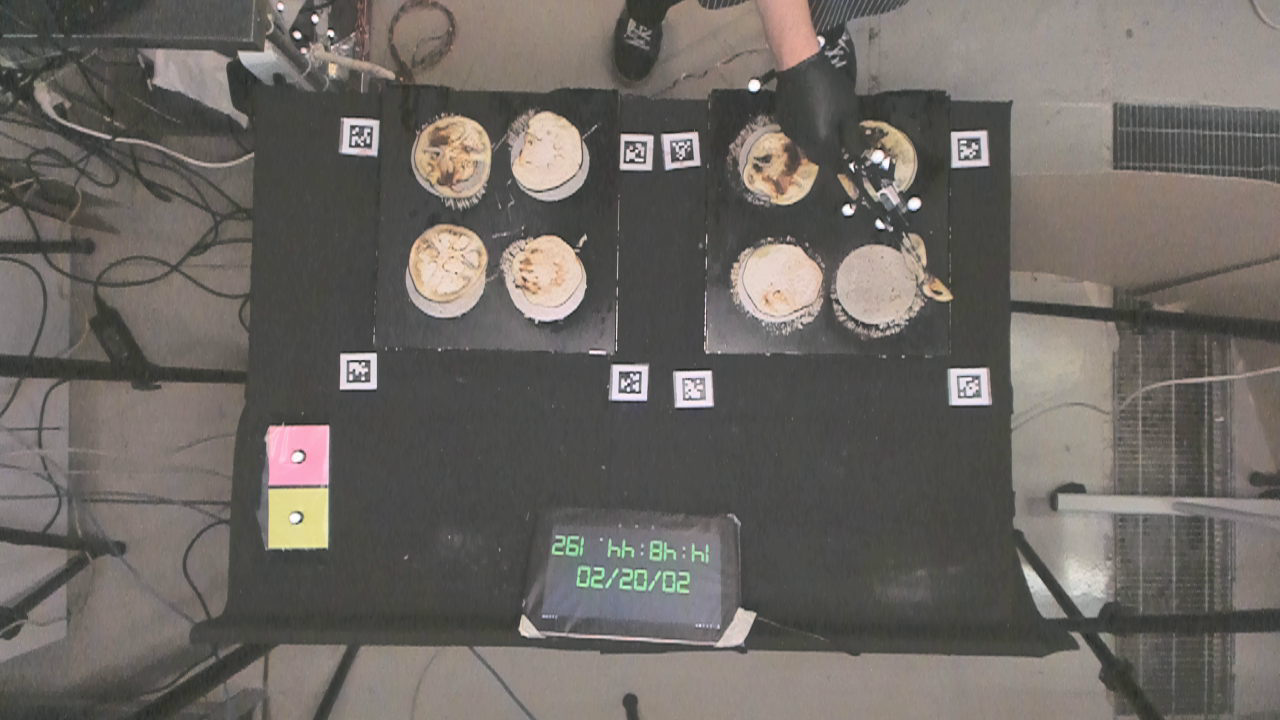eggplant: (411, 116, 493, 202), (406, 220, 486, 303), (513, 111, 585, 195), (744, 237, 819, 315), (742, 128, 816, 204), (510, 237, 587, 306), (856, 122, 917, 197), (903, 234, 957, 309)
marker: (269, 425, 329, 485)
